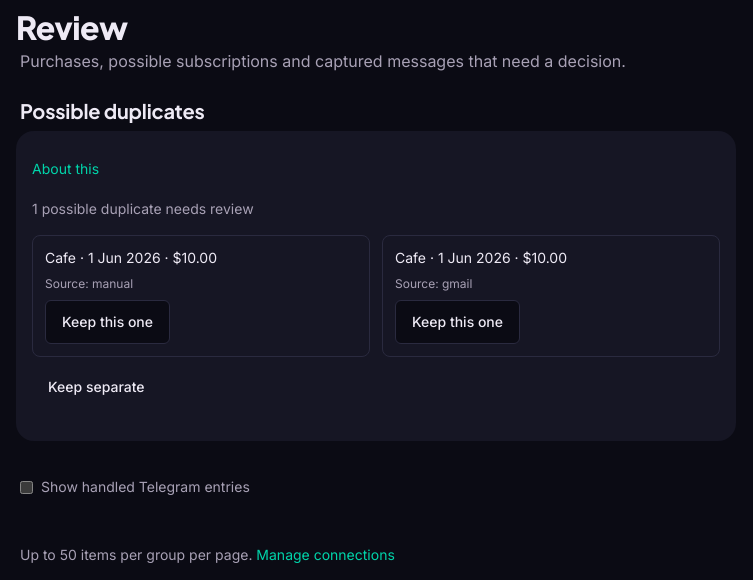
Test: keeps a duplicate pair separate without merging either side
The width and height of the screenshot is (753, 580).
Click the button "Keep separate": (96, 387) top-left (32, 365), bottom-right (161, 409)
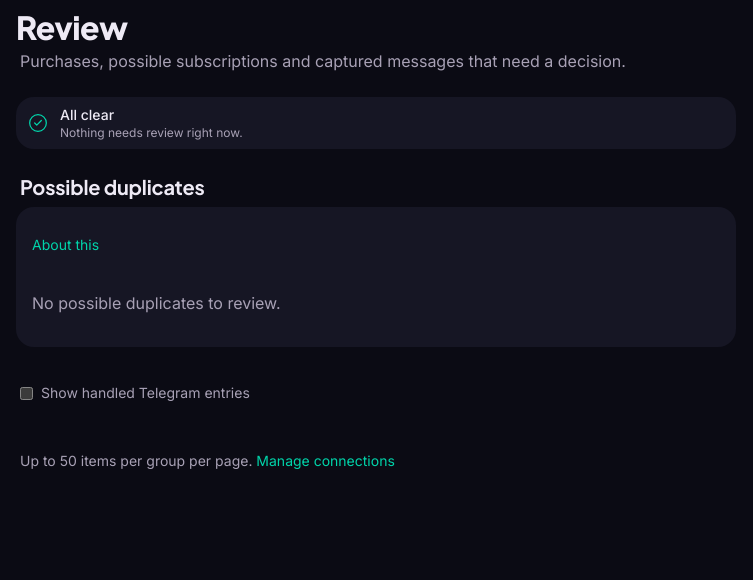
expect the text "No possible duplicates to review." is shown: met, box top-left (32, 293), bottom-right (281, 313)
